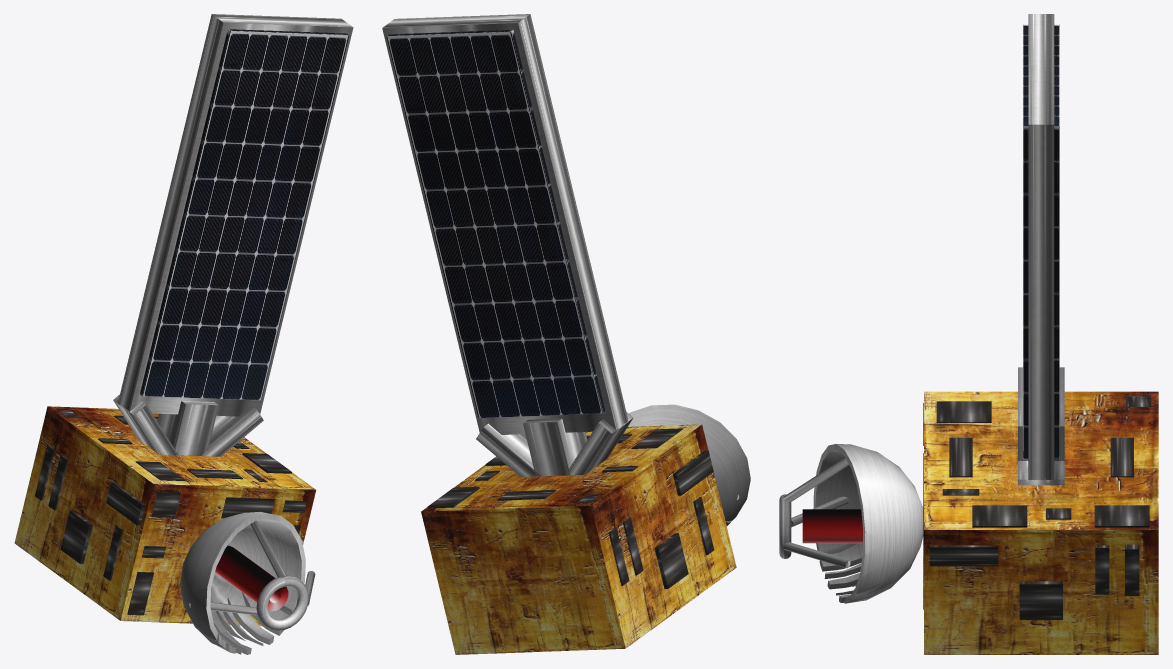
File: Satelite 1.fbx
3 views of the same model, side by side, from view 1: azimuth 30°, elevation 25°; view 2: azimuth 150°, elevation 25°; view 3: azimuth 270°, elevation 25° (orthographic). The views are drawn at different scales.
Visible parts, largest first — view 1: Panel1, CuerpoSatelite, BasePanel, GeoSphere001, EngancheSatelitePanel, Tube001, Torus001, EngancheSatelitePanel2, EngancheSatelitePanel3, DecoracionCuerpoSatelite005, DecoracionCuerpoSatelite006, DecoracionCuerpoSatelite024 (+8 smaller); view 2: Panel1, CuerpoSatelite, BasePanel, GeoSphere001, EngancheSatelitePanel, EngancheSatelitePanel2, EngancheSatelitePanel3, DecoracionCuerpoSatelite005, DecoracionCuerpoSatelite006, DecoracionCuerpoSatelite012, DecoracionCuerpoSatelite009, DecoracionCuerpoSatelite010 (+2 smaller); view 3: CuerpoSatelite, BasePanel, GeoSphere001, Panel1, Tube001, DecoracionCuerpoSatelite001, DecoracionCuerpoSatelite002, DecoracionCuerpoSatelite012, DecoracionCuerpoSatelite011, DecoracionCuerpoSatelite010, DecoracionCuerpoSatelite014, DecoracionCuerpoSatelite013 (+7 smaller).
Part boxes in pixels (x1,y1,x2,y2): Panel1: (140,29,349,400); CuerpoSatelite: (14,406,316,626); BasePanel: (118,14,353,416); GeoSphere001: (180,511,305,654); EngancheSatelitePanel: (157,401,218,455); Tube001: (215,545,288,611); Torus001: (256,575,308,630); EngancheSatelitePanel2: (201,406,263,456); EngancheSatelitePanel3: (113,394,178,455); DecoracionCuerpoSatelite005: (60,510,92,563); DecoracionCuerpoSatelite006: (106,482,145,525); DecoracionCuerpoSatelite024: (221,497,274,518); Panel1: (386,30,605,417); CuerpoSatelite: (421,424,736,654); BasePanel: (382,14,628,434); GeoSphere001: (628,404,750,526); EngancheSatelitePanel: (523,418,587,476); EngancheSatelitePanel2: (476,423,540,476); EngancheSatelitePanel3: (569,412,633,475); DecoracionCuerpoSatelite005: (654,533,688,588); DecoracionCuerpoSatelite006: (673,450,713,495); DecoracionCuerpoSatelite012: (427,486,479,508); DecoracionCuerpoSatelite009: (693,497,714,555); DecoracionCuerpoSatelite010: (631,428,682,448); CuerpoSatelite: (924,391,1158,654); BasePanel: (1028,14,1054,479); GeoSphere001: (813,444,923,603); Panel1: (1023,24,1059,458); Tube001: (802,509,862,543); DecoracionCuerpoSatelite001: (1019,581,1062,619); DecoracionCuerpoSatelite002: (929,545,998,566); DecoracionCuerpoSatelite012: (1094,505,1149,527); DecoracionCuerpoSatelite011: (972,505,1027,527); DecoracionCuerpoSatelite010: (936,401,991,422); DecoracionCuerpoSatelite014: (949,437,972,477); DecoracionCuerpoSatelite013: (1110,437,1133,477).
Bounding box in the file's own units: 2.06 × 4.03 × 2.19.
5 materials, 5 textured.
